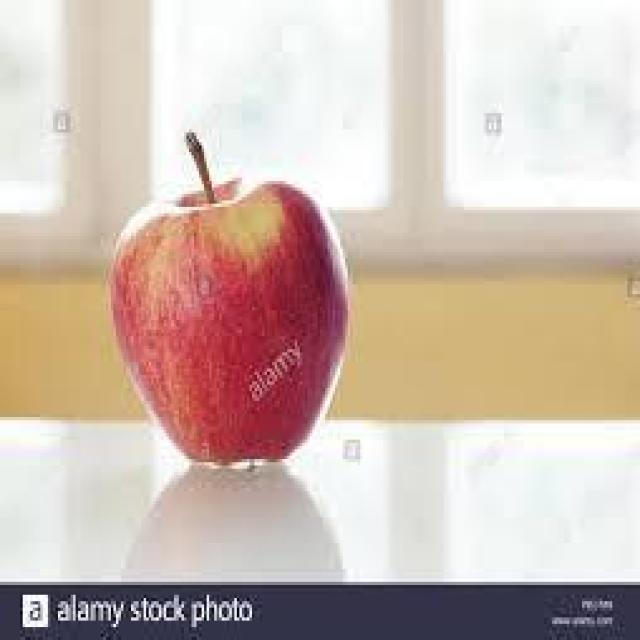maca: (106, 129, 350, 469)
